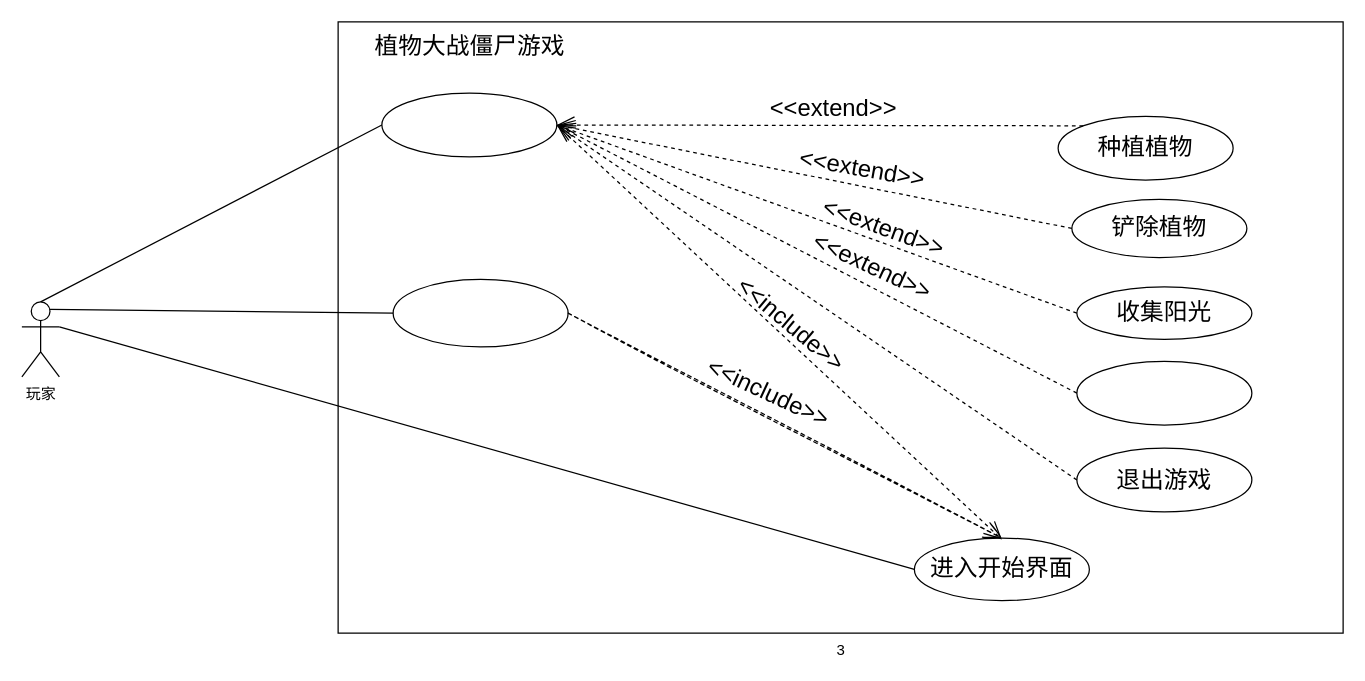
This 1365x681 diagram has some shape labels left out. Here are the shapes that lost their labels. From the top down, the centre of each, then its label:
(x=469, y=124): 开始游戏
(x=480, y=312): 选择植物
(x=1164, y=392): 暂停
